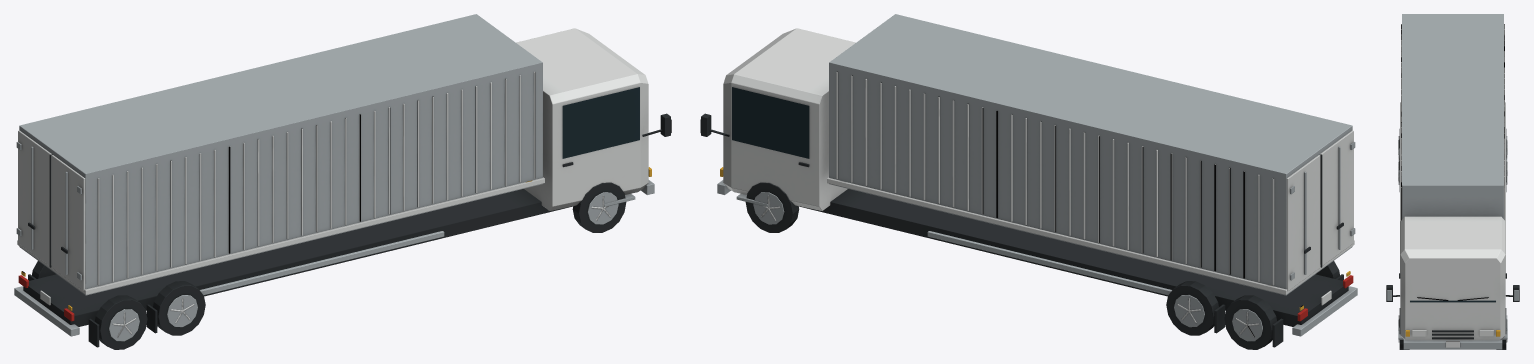
The model's file is cargo_truck.obj.
The picture shows the model from 3 angles, left to right: view 1: azimuth 30°, elevation 25°; view 2: azimuth 150°, elevation 25°; view 3: azimuth 270°, elevation 25°; orthographic projection. The views are drawn at different scales.
Visible parts, largest first — view 1: cargo_truck; view 2: cargo_truck; view 3: cargo_truck.
Boxes of the visible parts, x1=… form: cargo_truck: x1=14, y1=14, x2=671, y2=349; cargo_truck: x1=700, y1=14, x2=1357, y2=349; cargo_truck: x1=1386, y1=14, x2=1519, y2=349.
Bounding box in the file's own units: 12.1 × 3.62 × 3.1.
Materials: 1 (1 with a texture image).
